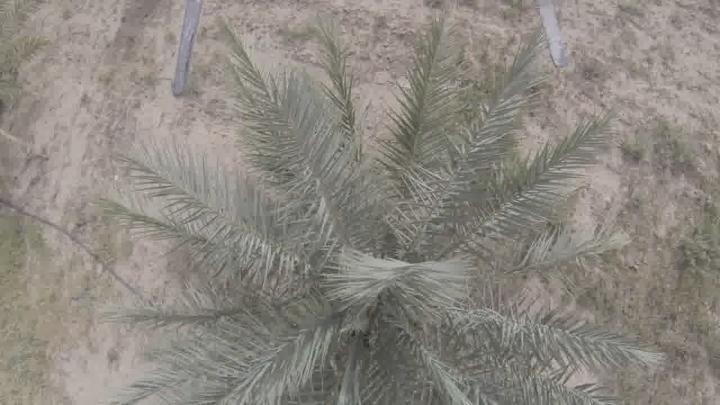Date-Palm-Crown: (233, 148, 521, 404)
